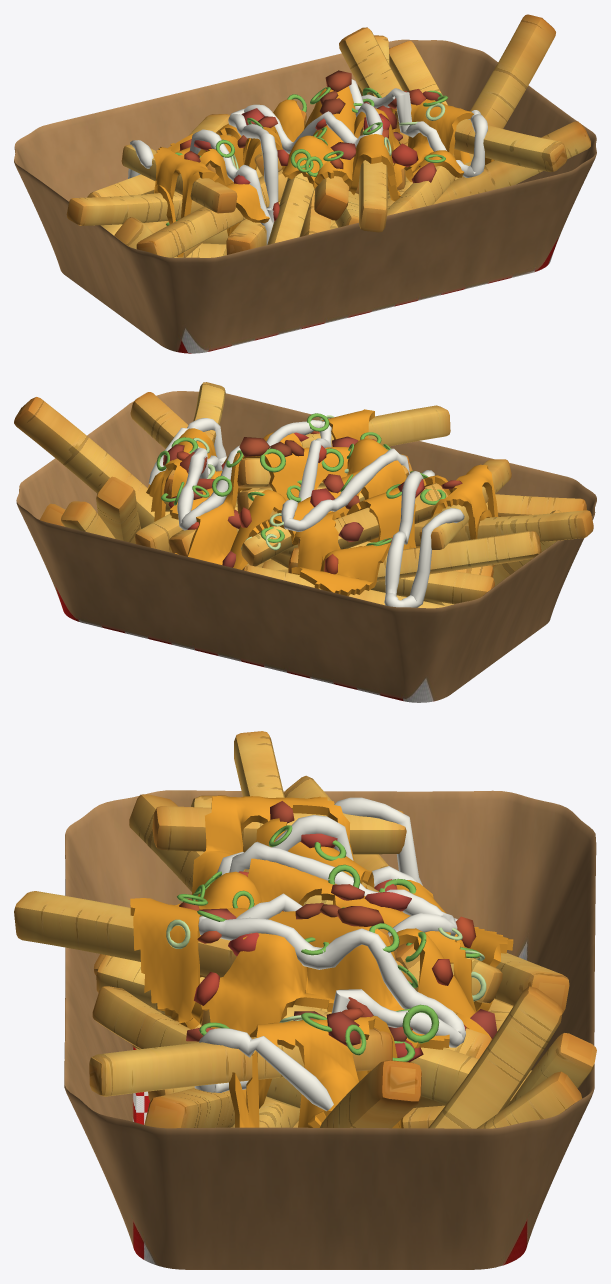
File: loaded-fries.glb
3 views of the same model, one above another, from view 1: azimuth 30°, elevation 25°; view 2: azimuth 150°, elevation 25°; view 3: azimuth 270°, elevation 25° (orthographic). The views are drawn at different scales.
Parts seen in each view (by area): view 1: base, fries, cheddar-melt, ranch, bacon, green-onion; view 2: base, fries, cheddar-melt, ranch, bacon, green-onion; view 3: base, fries, cheddar-melt, ranch, bacon, green-onion.
Boxes of the visible parts, x1,y1,x2,y2 form: base: (14,39,596,353); fries: (66,14,590,257); cheddar-melt: (153,86,494,256); ranch: (128,79,487,244); bacon: (179,70,439,221); green-onion: (166,87,447,225); base: (16,391,596,702); fries: (14,382,593,608); cheddar-melt: (146,409,498,596); ranch: (148,418,464,607); bacon: (163,430,462,574); green-onion: (156,413,446,550); base: (64,790,596,1269); fries: (14,731,596,1128); cheddar-melt: (130,796,513,1128); ranch: (194,797,465,1111); bacon: (179,801,497,1062); green-onion: (166,825,486,1061).
Size of the model in its own units: 0.2035 by 0.0635 by 0.1305.
6 materials, 2 textured.
